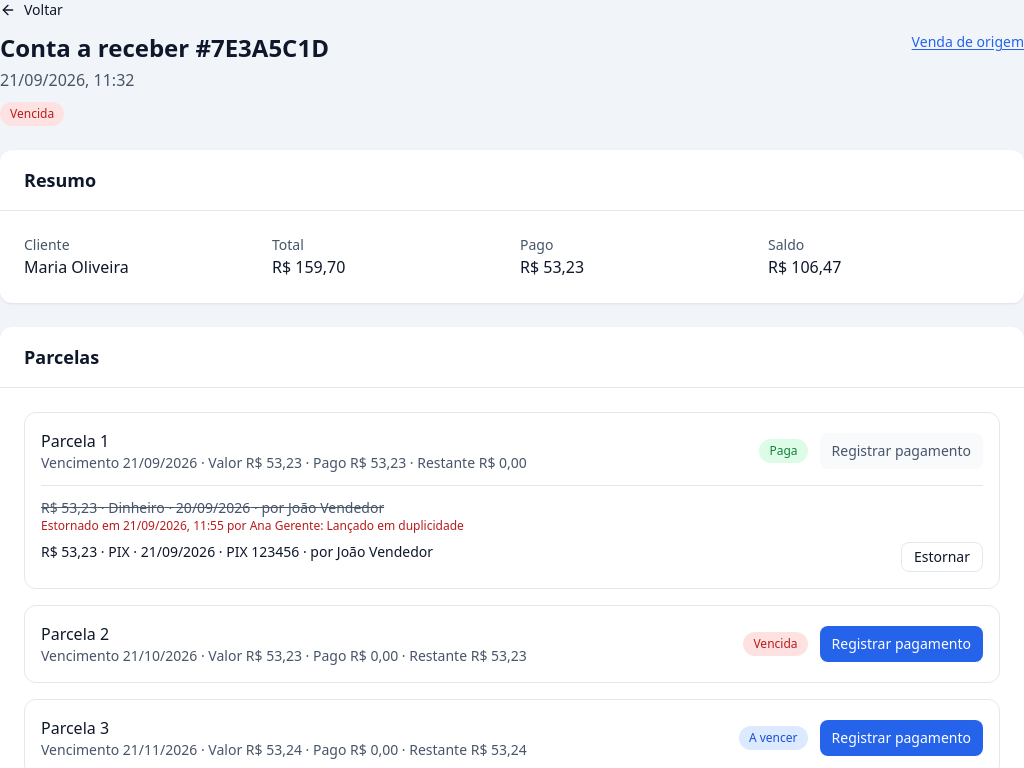
Test: ReceivableDetailPage › registrar pagamento envia { amount, method, paymentDate, reference } e atualiza a tela
Expected: the text "Maria Oliveira" is shown, [24, 256, 129, 278]
Step 1. Click the button "Registrar pagamento" in the row of "21/10/2026" → (901,644), box [820, 626, 983, 662]
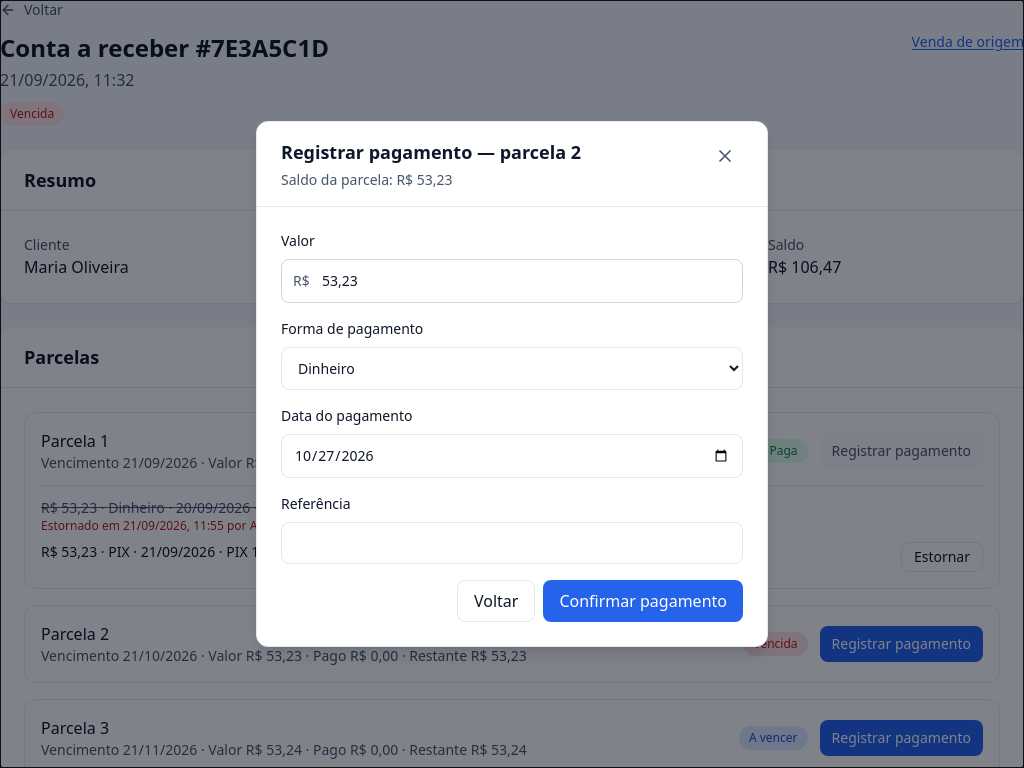
Expected: the field labelled "Valor" holds "53,23", [281, 259, 743, 303]
Expected: the date field labelled "Data do pagamento" holds "2026-10-27", [281, 434, 743, 478]
Step 2. Select "PIX" in the dropdown labelled "Forma de pagamento" → (512,368), box [281, 347, 743, 390]
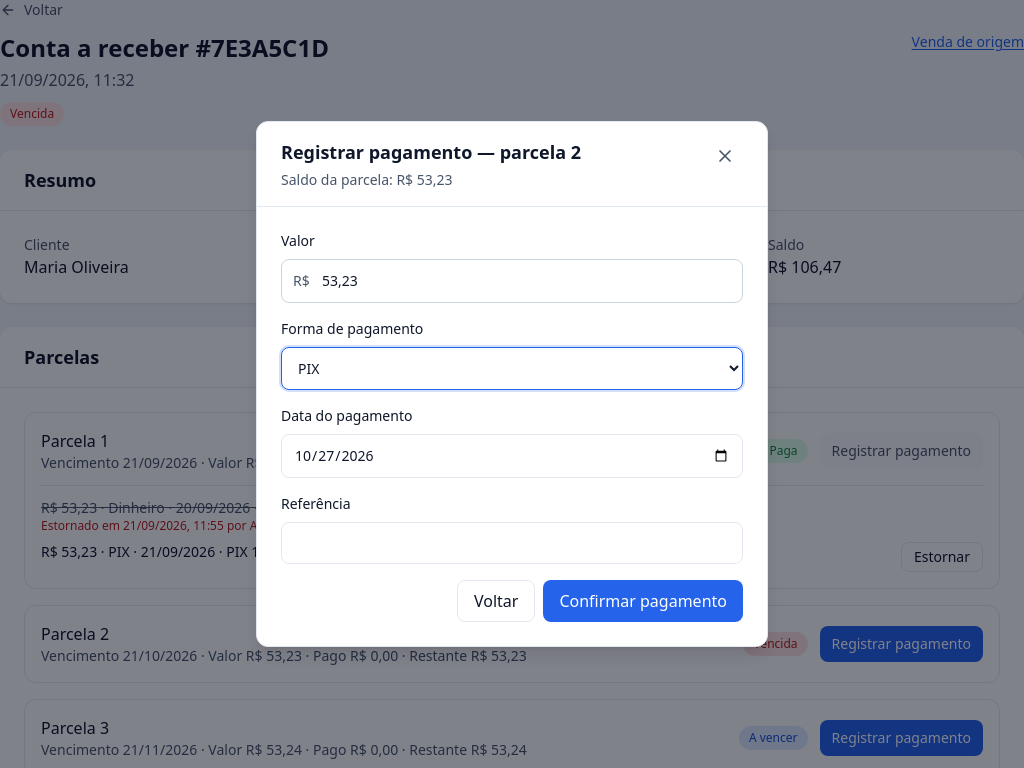
Step 3. Type "PIX 999" into the field labelled "Referência" → (512,543), box [281, 522, 743, 564]
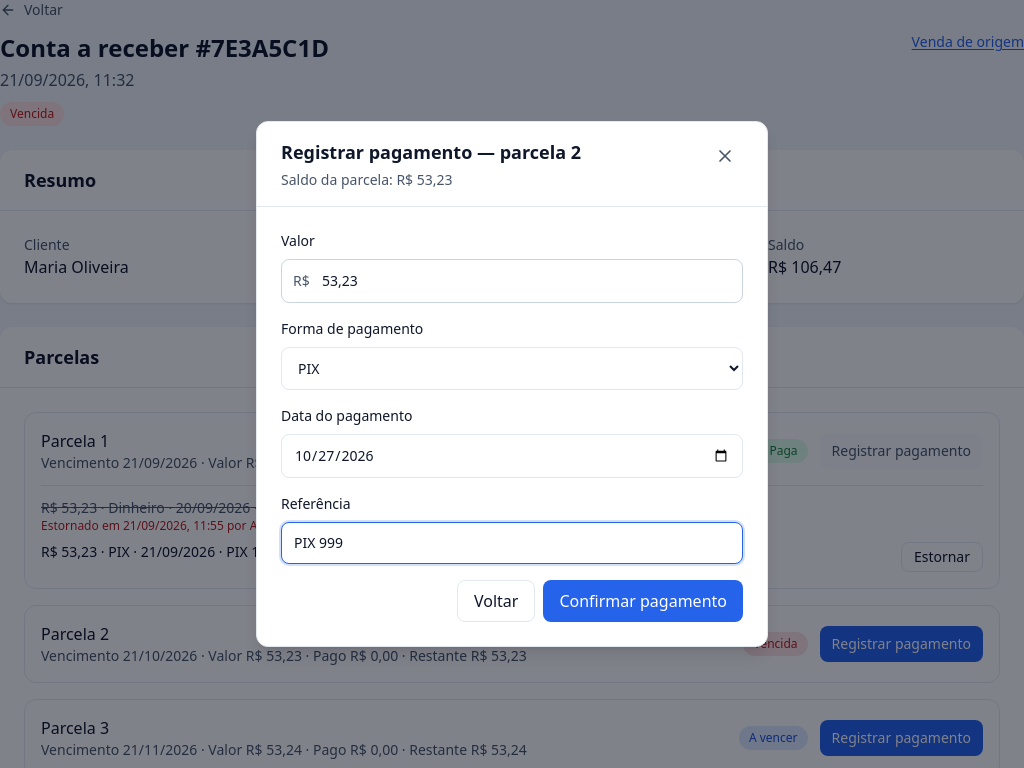
Step 4. Click the button "Confirmar pagamento" → (643,601), box [543, 580, 743, 622]
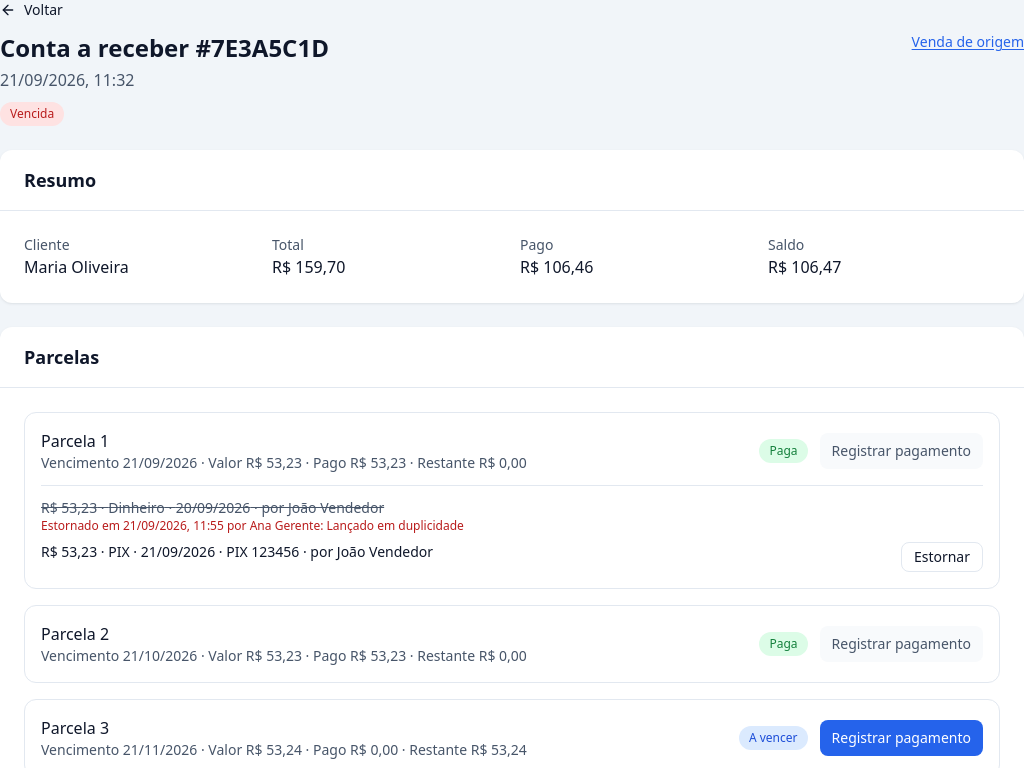
Expected: the dialog is gone
Expected: the text "Paga" in the row of "21/10/2026" is shown, [769, 635, 798, 652]
Expected: the button "Registrar pagamento" in the row of "21/10/2026" is disabled, [820, 626, 983, 662]
